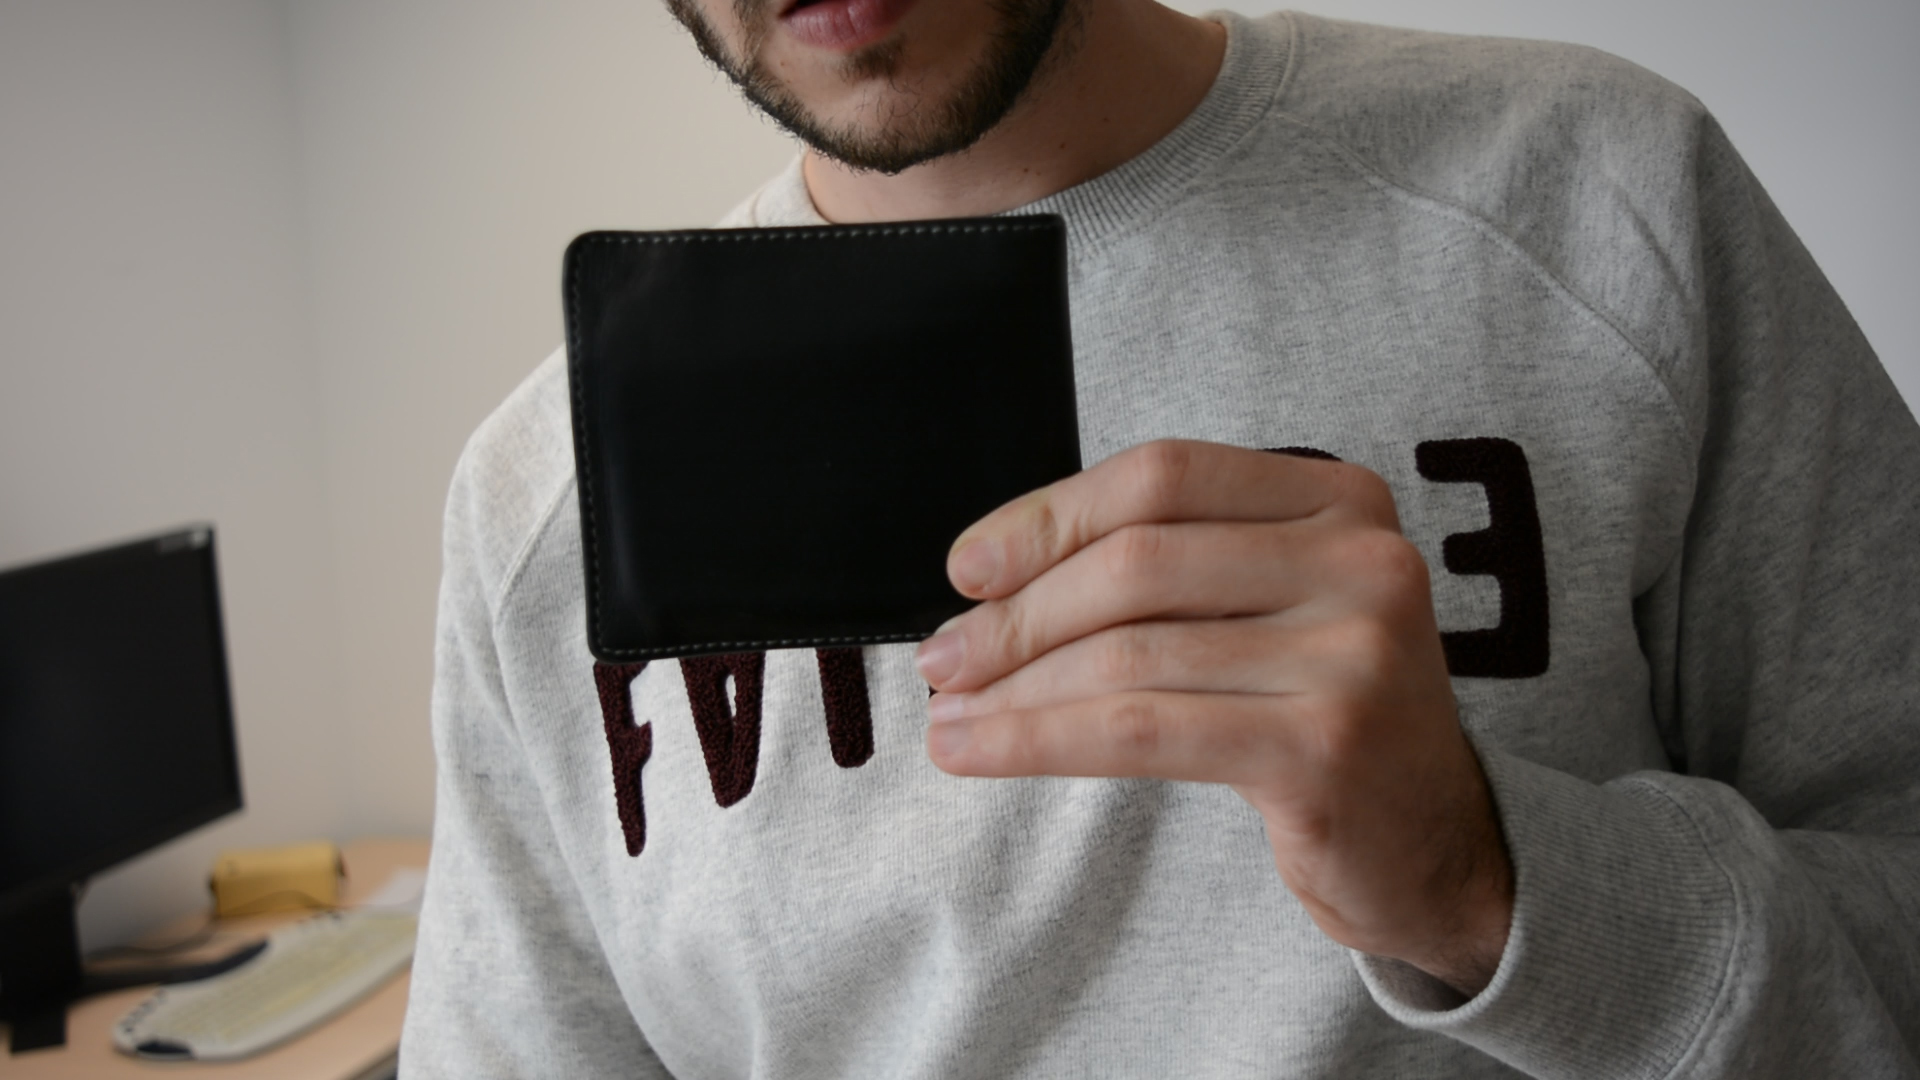monedero: (558, 210, 1087, 666)
